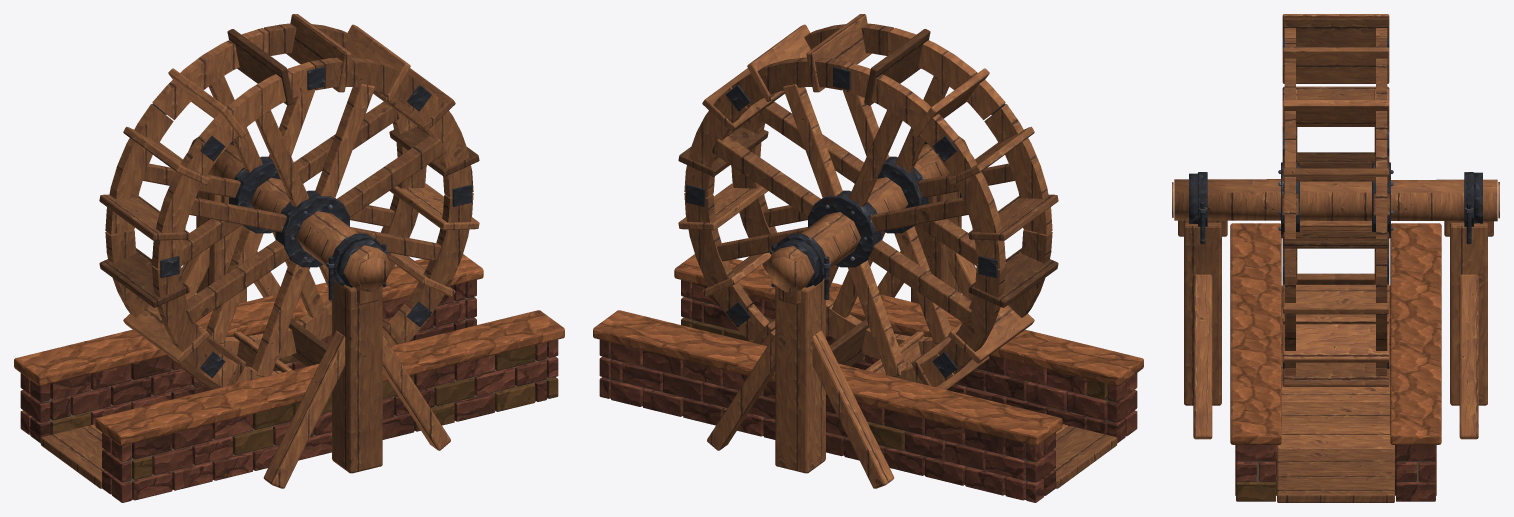
File: hw_wheel_trough.glb
3 views of the same model, side by side, from view 1: azimuth 30°, elevation 25°; view 2: azimuth 150°, elevation 25°; view 3: azimuth 270°, elevation 25° (orthographic).
Visible parts, largest first — view 1: model; view 2: model; view 3: model.
Part boxes in pixels (x1,y1,x2,y2): model: (14, 14, 564, 502); model: (593, 14, 1143, 502); model: (1172, 14, 1499, 502).
Bounding box in the file's own units: 2.65 × 2.14 × 1.72.
Materials: 14 (13 with a texture image).
